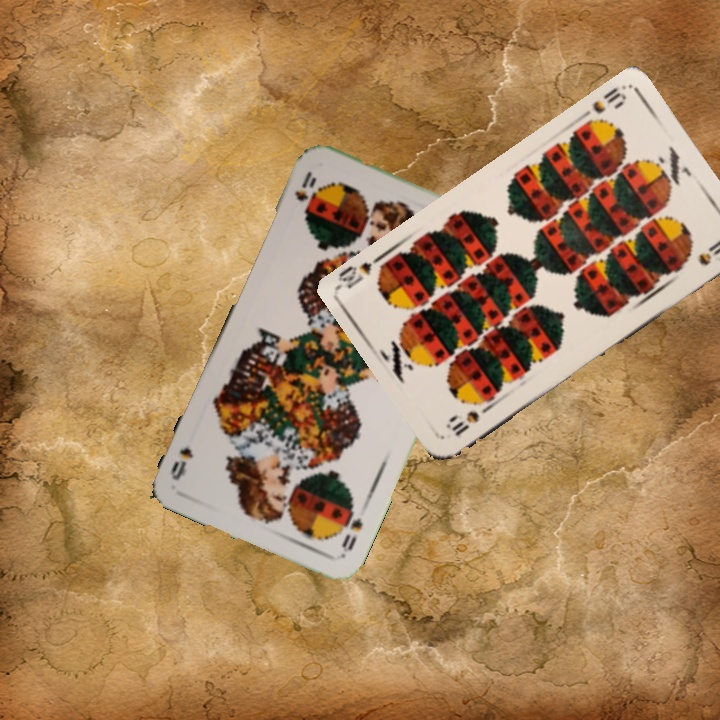S10: (443, 400, 495, 439), (588, 83, 629, 117)
SO: (337, 507, 366, 559), (291, 167, 319, 216)
